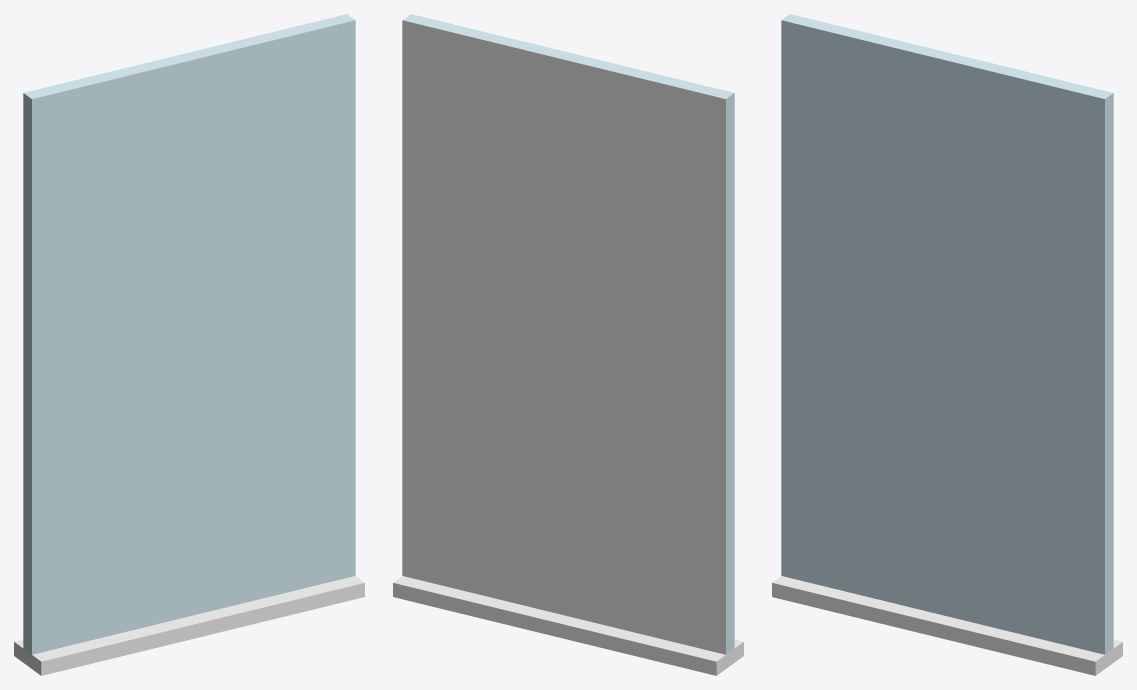
File: 22_wall.FBX
3 renders of one model, left to right at view 1: azimuth 30°, elevation 25°; view 2: azimuth 150°, elevation 25°; view 3: azimuth 330°, elevation 25°, orthographic.
Parts seen in each view (by area): view 1: 22_wall; view 2: 22_wall; view 3: 22_wall.
Boxes of the visible parts, box(x1,y1,x2,y2) form: 22_wall: box(14, 14, 364, 675); 22_wall: box(393, 14, 743, 675); 22_wall: box(772, 14, 1122, 675).
Bounding box in the file's own units: 256 × 432 × 37.56.
